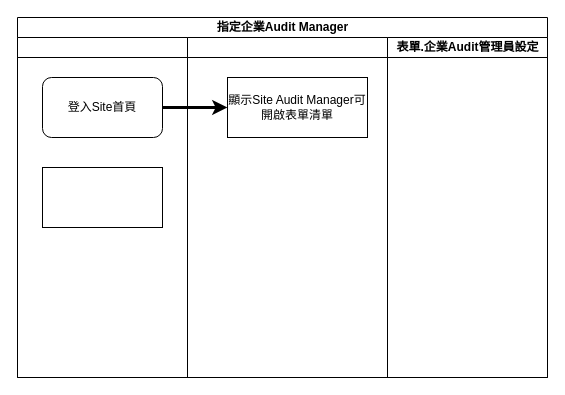
Image size: 565x395. Some labels were removed from this diagram. The shapes that lost their labels are listed below. From the top down, each one's box as (x1, y1, x2, y2) in pixels, then its label:
(16, 36, 188, 378): Site Audit Manager
(186, 36, 388, 378): Site管理首頁
